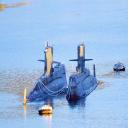submarine: (25, 47, 70, 106), (67, 45, 99, 100)
